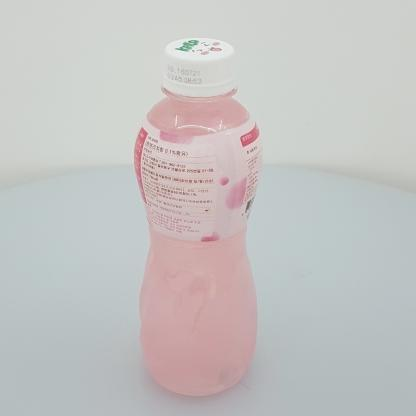-----------: (134, 36, 263, 396)
